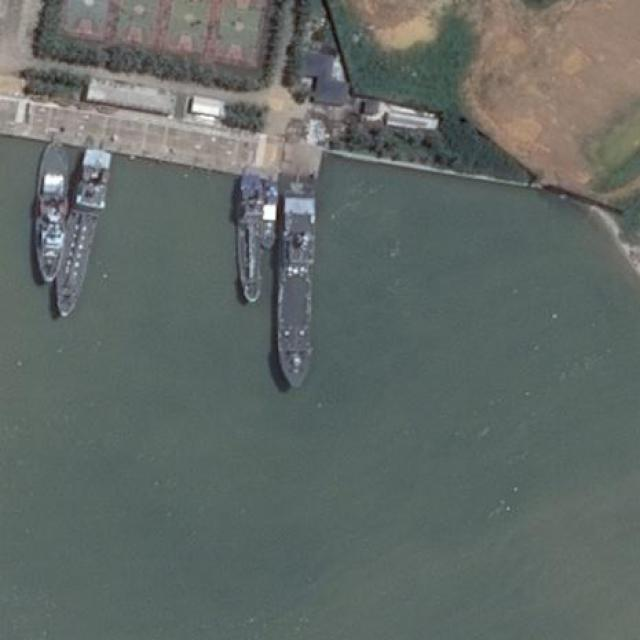Landing: (48, 149, 113, 321), (275, 193, 317, 390), (233, 173, 265, 306)
Other Warship: (33, 145, 72, 282), (263, 182, 279, 248)
